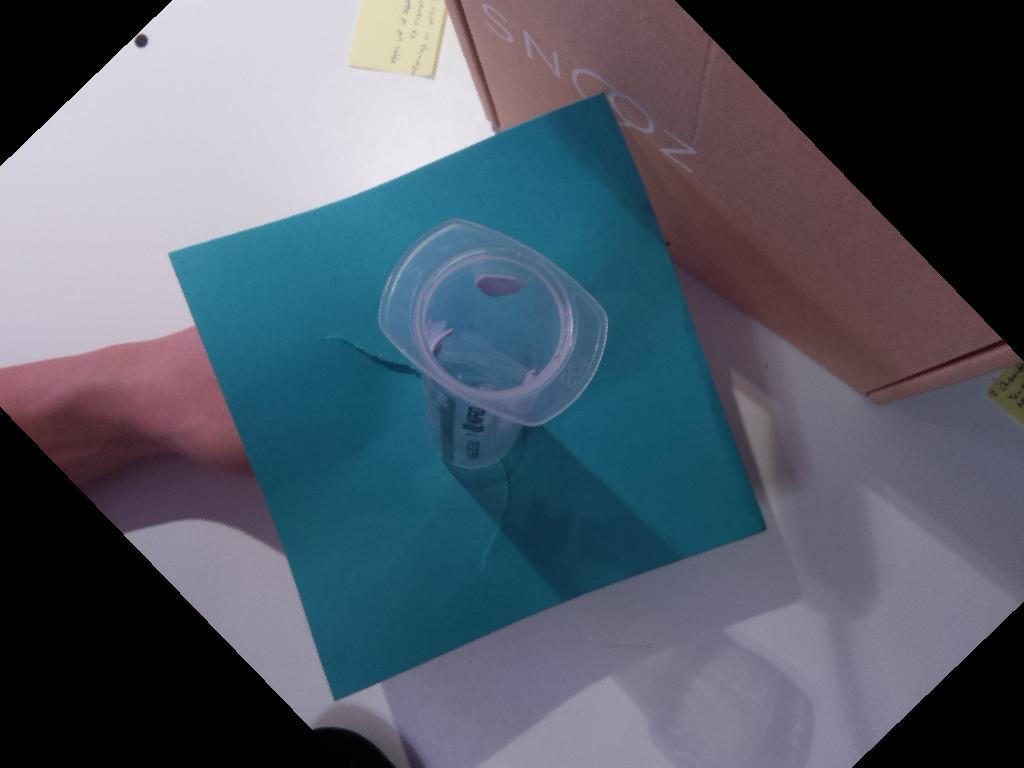dirty: (376, 218, 608, 426)
